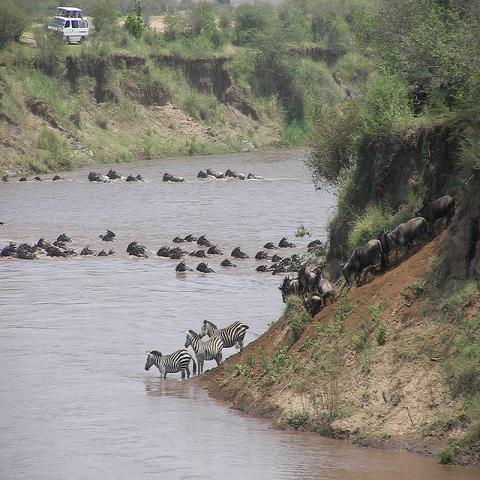truck: (46, 6, 89, 46)
